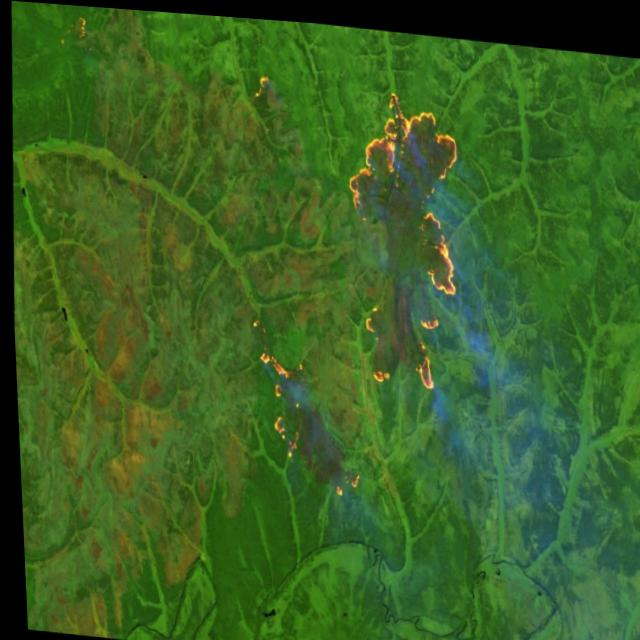fire: (332, 73, 472, 390), (249, 337, 309, 466), (323, 456, 362, 500), (248, 66, 277, 104)
